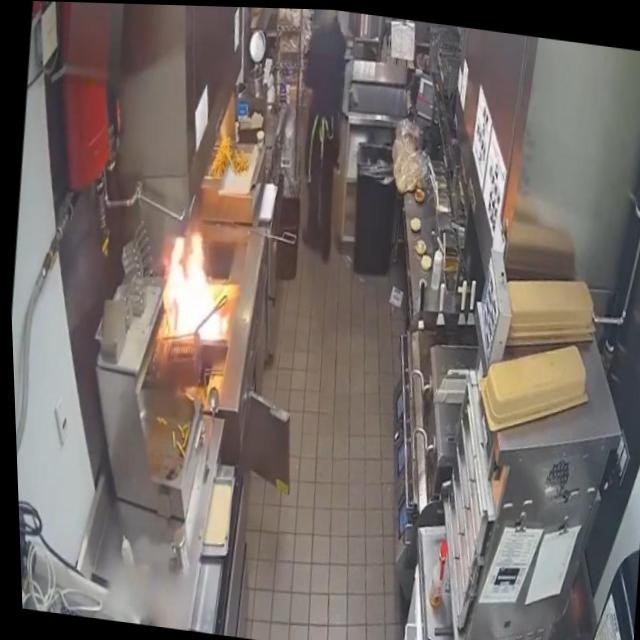fire: (148, 215, 237, 349)
